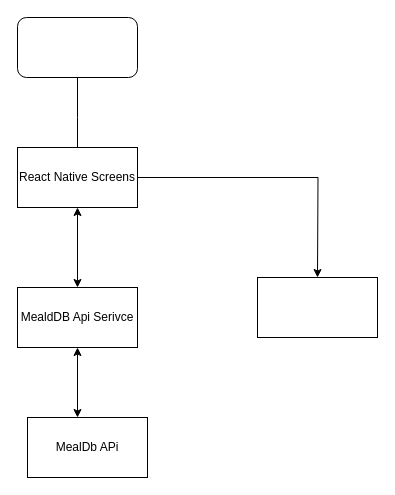
Some shapes in this 395 by 495 pixel diagram are drawn without their labels. The shapes that lost their labels are listed below. From the top down, each one's box as (x1, y1, x2, y2) in pixels, then its label:
(16, 16, 138, 78): User
(256, 276, 378, 338): Async Storage
